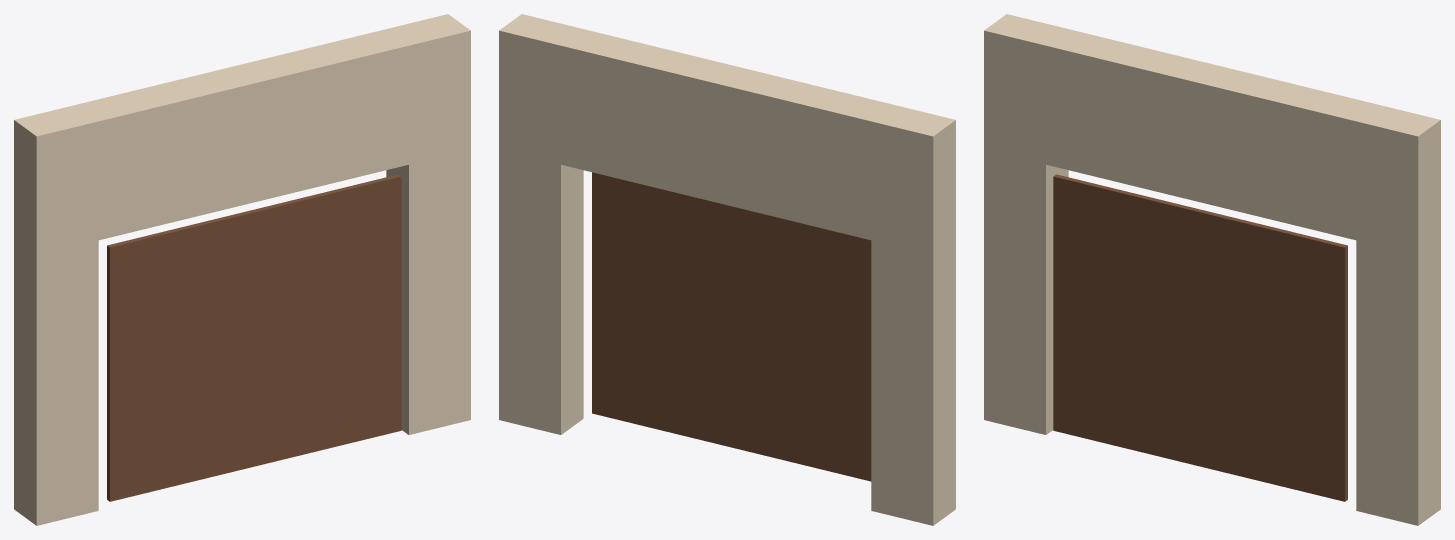
Rendered from bh_traditional_shop_bay_01_lod0.glb.
3 renders of one model, left to right at view 1: azimuth 30°, elevation 25°; view 2: azimuth 150°, elevation 25°; view 3: azimuth 330°, elevation 25°, orthographic.
Parts seen in each view (by area): view 1: bh_traditional_shop_bay_01_infill, bh_traditional_shop_bay_01_top, bh_traditional_shop_bay_01_left, bh_traditional_shop_bay_01_right; view 2: bh_traditional_shop_bay_01_infill, bh_traditional_shop_bay_01_top, bh_traditional_shop_bay_01_left, bh_traditional_shop_bay_01_right; view 3: bh_traditional_shop_bay_01_infill, bh_traditional_shop_bay_01_top, bh_traditional_shop_bay_01_right, bh_traditional_shop_bay_01_left.
Part boxes in pixels (bbox=[...]): bh_traditional_shop_bay_01_infill: bbox=[107, 174, 401, 501]; bh_traditional_shop_bay_01_top: bbox=[76, 29, 408, 240]; bh_traditional_shop_bay_01_left: bbox=[14, 105, 98, 525]; bh_traditional_shop_bay_01_right: bbox=[386, 14, 470, 434]; bh_traditional_shop_bay_01_infill: bbox=[592, 172, 871, 481]; bh_traditional_shop_bay_01_top: bbox=[561, 29, 893, 240]; bh_traditional_shop_bay_01_left: bbox=[871, 105, 955, 525]; bh_traditional_shop_bay_01_right: bbox=[499, 14, 583, 434]; bh_traditional_shop_bay_01_infill: bbox=[1053, 174, 1347, 501]; bh_traditional_shop_bay_01_top: bbox=[1046, 29, 1378, 240]; bh_traditional_shop_bay_01_right: bbox=[1356, 105, 1440, 525]; bh_traditional_shop_bay_01_left: bbox=[984, 14, 1068, 434].
Size of the model in its own units: 4.2 by 3.6 by 0.4126.
